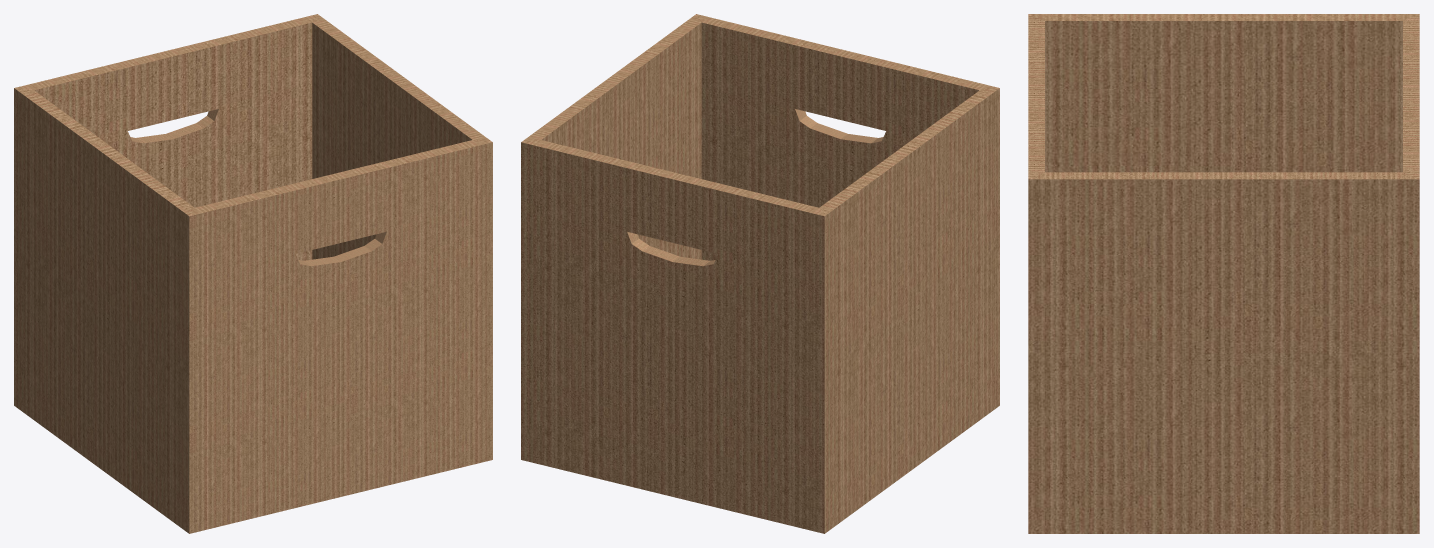
The model's file is CardboardBox1.fbx.
The picture shows the model from 3 angles, left to right: view 1: azimuth 30°, elevation 25°; view 2: azimuth 150°, elevation 25°; view 3: azimuth 270°, elevation 25°; orthographic projection. The views are drawn at different scales.
Visible parts, largest first — view 1: Cube; view 2: Cube; view 3: Cube.
Boxes of the visible parts, x1,y1,x2,y2 form: Cube: (14, 14, 492, 533); Cube: (521, 14, 999, 533); Cube: (1028, 14, 1419, 533).
Size of the model in its own units: 200 by 200 by 200.
